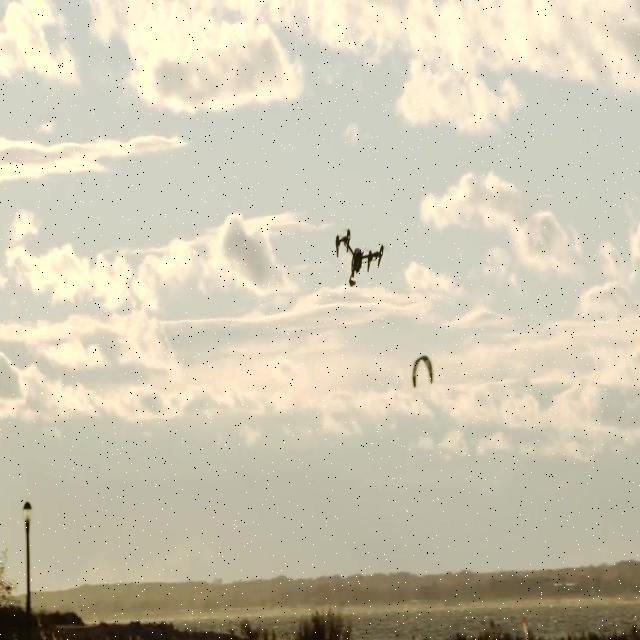UAV: (334, 225, 385, 288)
